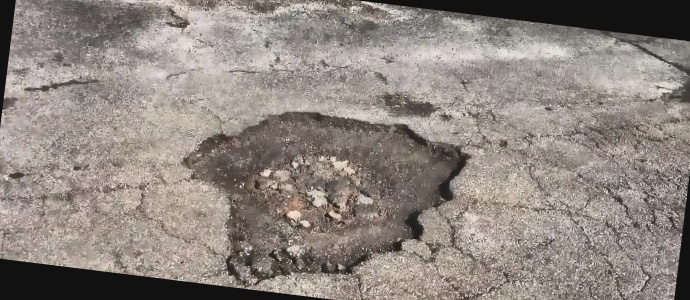pothole: (166, 88, 478, 300)
